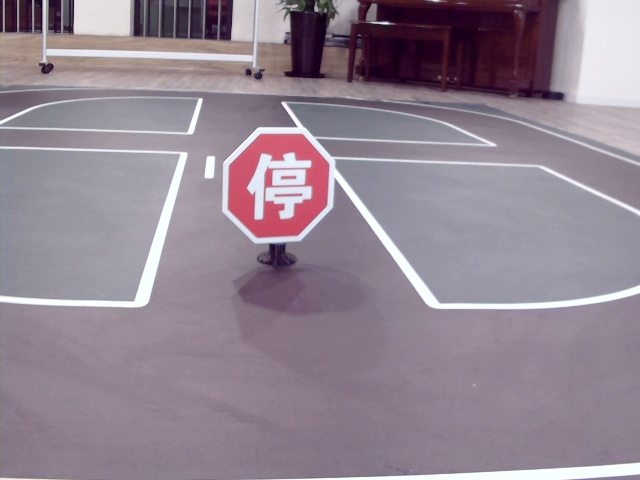stop: (244, 148, 315, 223)
